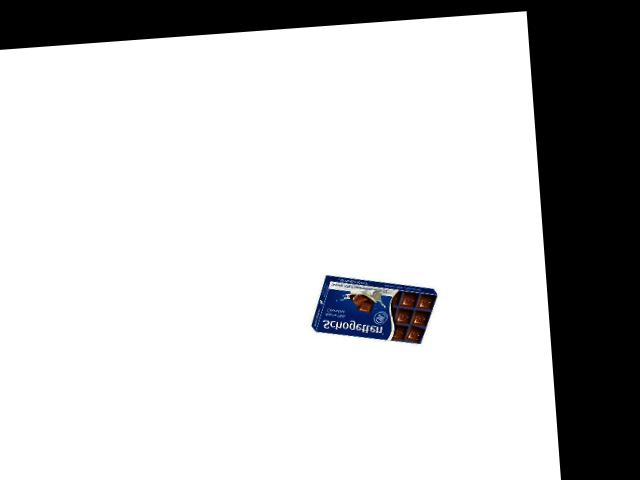chocolate: (306, 277, 442, 352)
